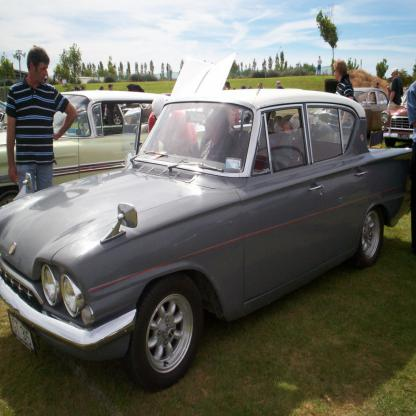Car: (0, 46, 416, 394)
